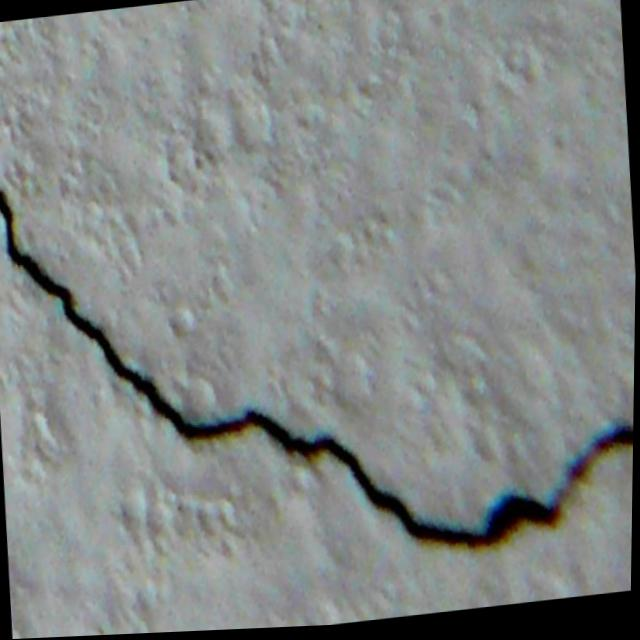Crack: (0, 78, 639, 603)
